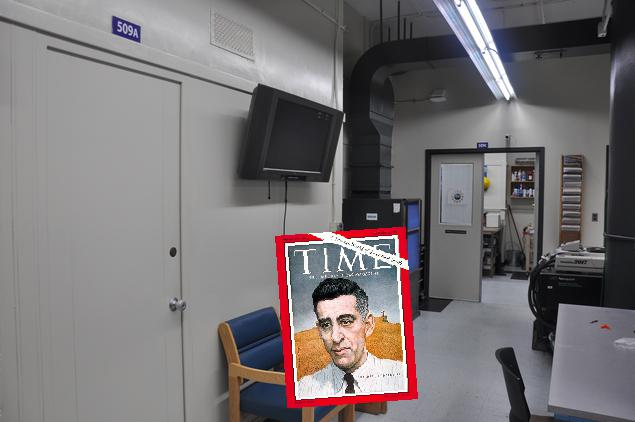times: (274, 223, 422, 407)
